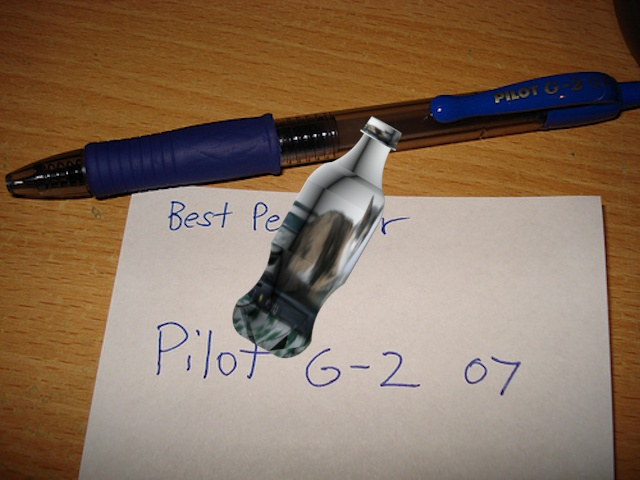bottle: (224, 113, 408, 369)
